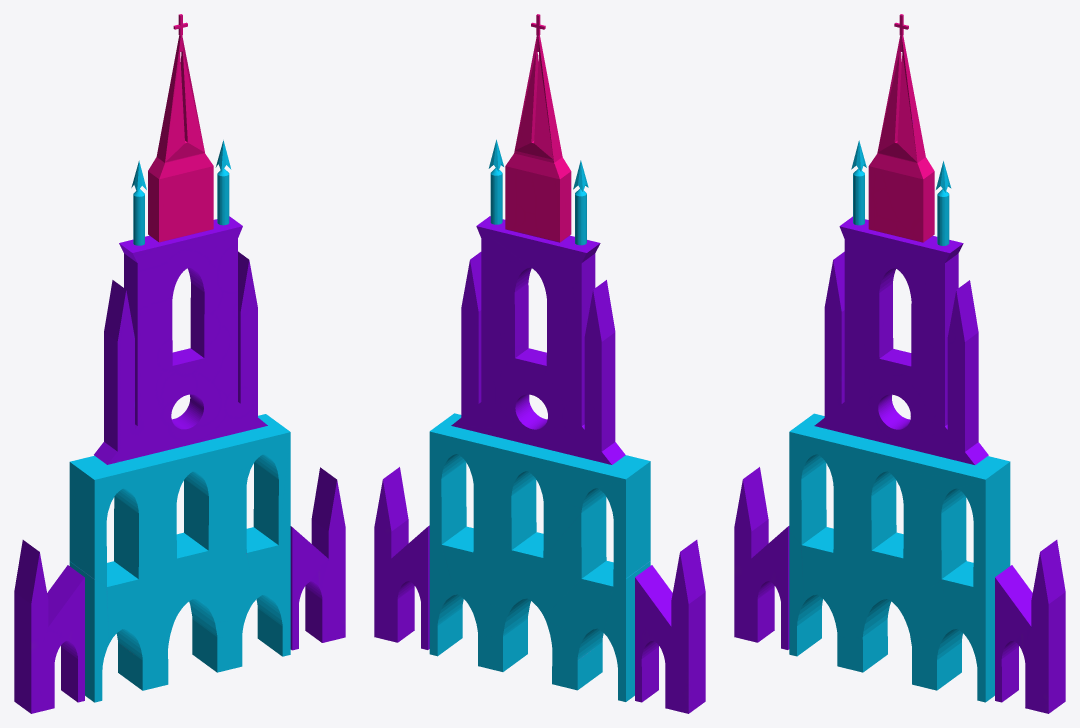
File: Ermita.glb
3 views of the same model, side by side, from view 1: azimuth 30°, elevation 25°; view 2: azimuth 150°, elevation 25°; view 3: azimuth 330°, elevation 25° (orthographic).
Visible parts, largest first — view 1: mesh_id6, mesh_id5, mesh_id7, mesh_id8; view 2: mesh_id6, mesh_id5, mesh_id7, mesh_id8; view 3: mesh_id6, mesh_id5, mesh_id7, mesh_id8.
Boxes of the visible parts, x1,y1,x2,y2 form: mesh_id6: (69, 14, 290, 702); mesh_id5: (94, 216, 267, 464); mesh_id7: (14, 467, 345, 713); mesh_id8: (133, 168, 229, 245); mesh_id6: (429, 14, 650, 701); mesh_id5: (451, 216, 625, 464); mesh_id7: (374, 467, 705, 713); mesh_id8: (490, 168, 586, 245); mesh_id6: (789, 14, 1010, 702); mesh_id5: (814, 216, 988, 464); mesh_id7: (734, 467, 1065, 713); mesh_id8: (853, 168, 949, 245).
Size of the model in its own units: 0.2575 by 0.512 by 0.0353.
5 materials, 5 textured.
